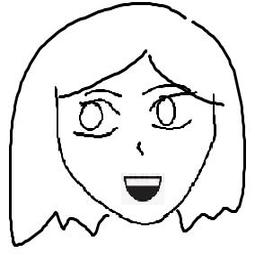eye: (67, 97, 122, 141), (145, 91, 197, 136)
eyebrow: (136, 79, 180, 97), (84, 85, 128, 98)
open_mouth: (113, 167, 167, 206)
pointy_nose: (134, 139, 147, 160)
